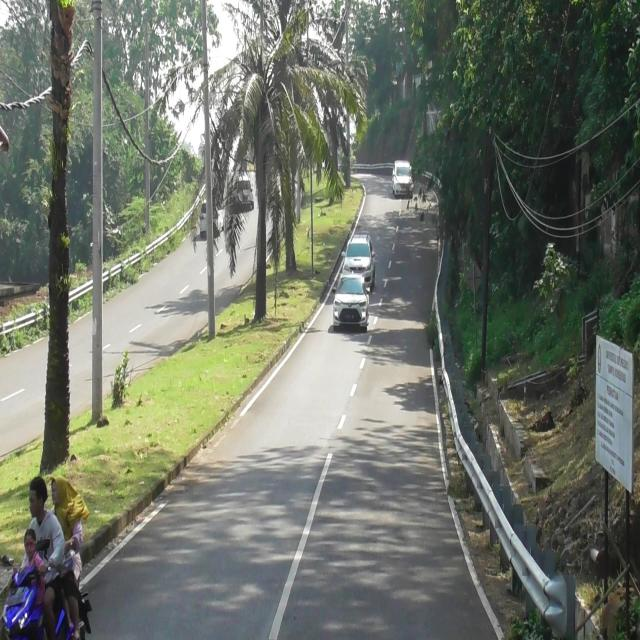motorcycle: (1, 540, 89, 640)
person: (21, 476, 62, 639), (50, 477, 84, 640), (18, 530, 46, 613)
rider_region: (1, 474, 90, 640)
